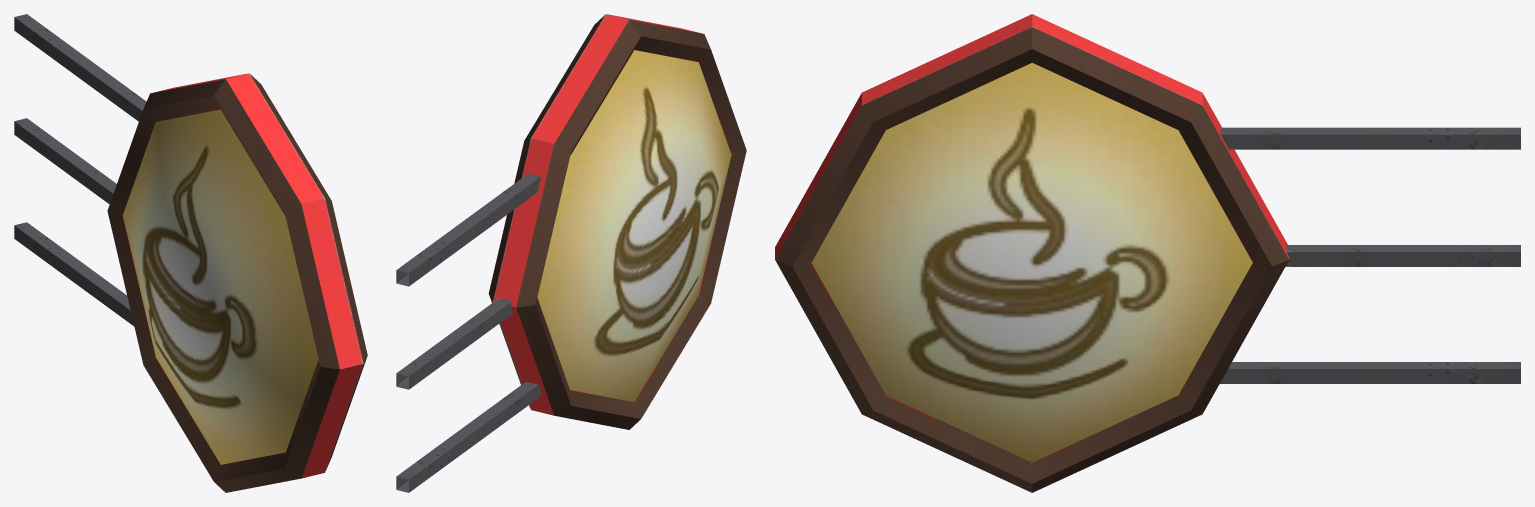
Rendered from ad02-art.glb.
The picture shows the model from 3 angles, left to right: view 1: azimuth 30°, elevation 25°; view 2: azimuth 150°, elevation 25°; view 3: azimuth 270°, elevation 25°; orthographic projection. The views are drawn at different scales.
Parts seen in each view (by area): view 1: Ad02_Art; view 2: Ad02_Art; view 3: Ad02_Art.
Part boxes in pixels (x1=…): Ad02_Art: x1=14, y1=14, x2=367, y2=492; Ad02_Art: x1=396, y1=14, x2=746, y2=492; Ad02_Art: x1=775, y1=14, x2=1520, y2=492.
Bounding box in the file's own units: 0.9096 × 3.98 × 5.77.
1 material, 1 textured.
